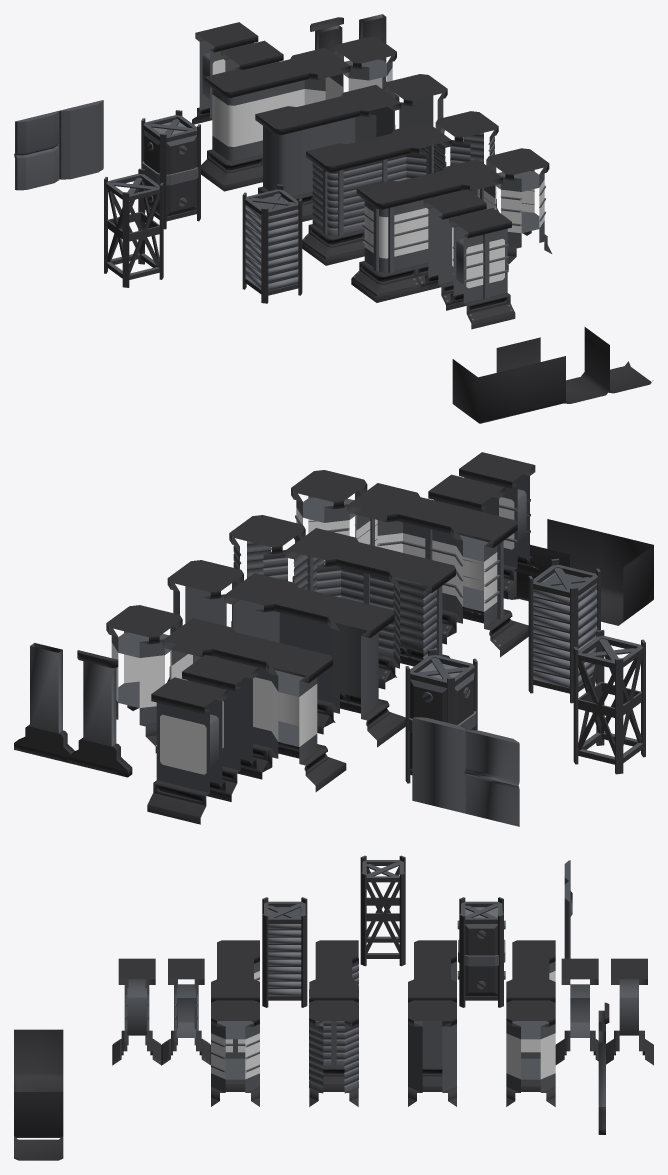
Rendered from walls.fbx.
The picture shows the model from 3 angles, top to bottom: view 1: azimuth 30°, elevation 25°; view 2: azimuth 150°, elevation 25°; view 3: azimuth 270°, elevation 25°; orthographic projection. The views are drawn at different scales.
Parts seen in each view (by area): view 1: Reinforced Glass Wall I Solo, Reinforced Glass Wall L, Reinforced Wall L, Reinforced Wall Phase 1, Glass Wall L, Wall Phase 1, Wall Girder, Wall L, Reinforced Glass Wall X, Reinforced Glass Wall I End, Plenum Cover T.001, Plenum Cover I (+19 smaller); view 2: Glass Wall I Solo, Reinforced Wall Phase 1, Wall Girder, Reinforced Glass Wall L, Glass Wall L, Wall L, Glass Wall X, Wall Phase 1, Glass Wall I End, Reinforced Wall I, Wall Panel 2, Reinforced Wall L (+17 smaller); view 3: Wall Phase 1, Reinforced Wall Phase 1, Glass Wall X, Reinforced Glass Wall X, Wall Girder, Reinforced Wall X, Wall X, Plenum Cover T.001, Reinforced Glass Wall I Solo, Reinforced Glass Wall I End, Glass Wall I Solo, Reinforced Wall T (+16 smaller).
Boxes of the visible parts, box(x1,y1,x2,y2) form: Reinforced Glass Wall I Solo: box(446, 208, 515, 329); Reinforced Glass Wall L: box(351, 180, 420, 302); Reinforced Wall L: box(302, 143, 366, 265); Reinforced Wall Phase 1: box(242, 184, 302, 303); Glass Wall L: box(201, 69, 264, 191); Wall Phase 1: box(141, 110, 200, 229); Wall Girder: box(104, 168, 163, 287); Wall L: box(255, 106, 315, 221); Reinforced Glass Wall X: box(486, 148, 551, 264); Reinforced Glass Wall I End: box(420, 189, 486, 310); Plenum Cover T.001: box(452, 359, 521, 423); Plenum Cover I: box(496, 337, 565, 413); Glass Wall I Solo: box(147, 677, 231, 824); Reinforced Wall Phase 1: box(528, 558, 600, 703); Wall Girder: box(573, 629, 645, 774); Reinforced Glass Wall L: box(447, 510, 528, 657); Glass Wall L: box(262, 645, 346, 791); Wall L: box(324, 600, 405, 747); Glass Wall X: box(106, 605, 182, 746); Wall Phase 1: box(405, 648, 477, 783); Glass Wall I End: box(182, 655, 262, 801); Reinforced Wall I: box(336, 542, 415, 689); Wall Panel 2: box(464, 730, 519, 826); Reinforced Wall L: box(385, 555, 455, 682); Wall Phase 1: box(457, 897, 505, 1007); Reinforced Wall Phase 1: box(262, 897, 307, 1007); Glass Wall X: box(506, 1000, 555, 1106); Reinforced Glass Wall X: box(211, 1000, 259, 1106); Wall Girder: box(360, 855, 405, 966); Reinforced Wall X: box(309, 1000, 358, 1106); Wall X: box(408, 1000, 456, 1106); Plenum Cover T.001: box(14, 1029, 63, 1091); Reinforced Glass Wall I Solo: box(112, 958, 161, 1065); Reinforced Glass Wall I End: box(161, 958, 210, 1065); Glass Wall I Solo: box(606, 958, 653, 1065); Reinforced Wall T: box(309, 979, 358, 1091).
Bounding box in the file's own units: 9.08 × 3.13 × 13.
